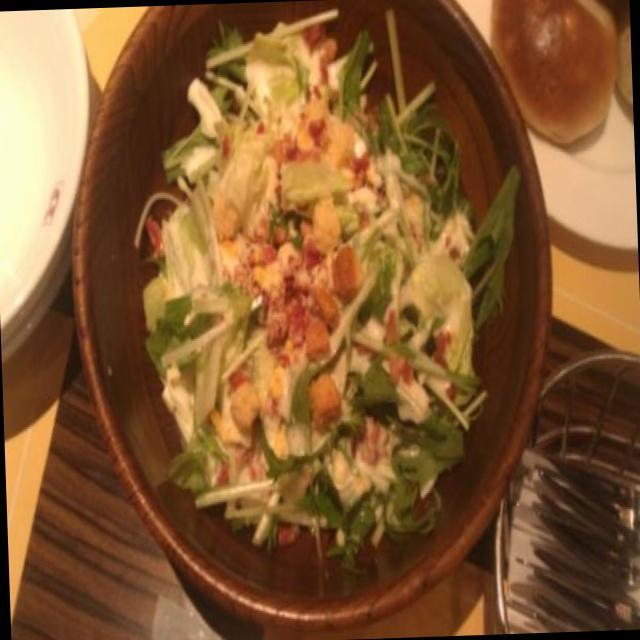Green Salad: (139, 17, 479, 554)
